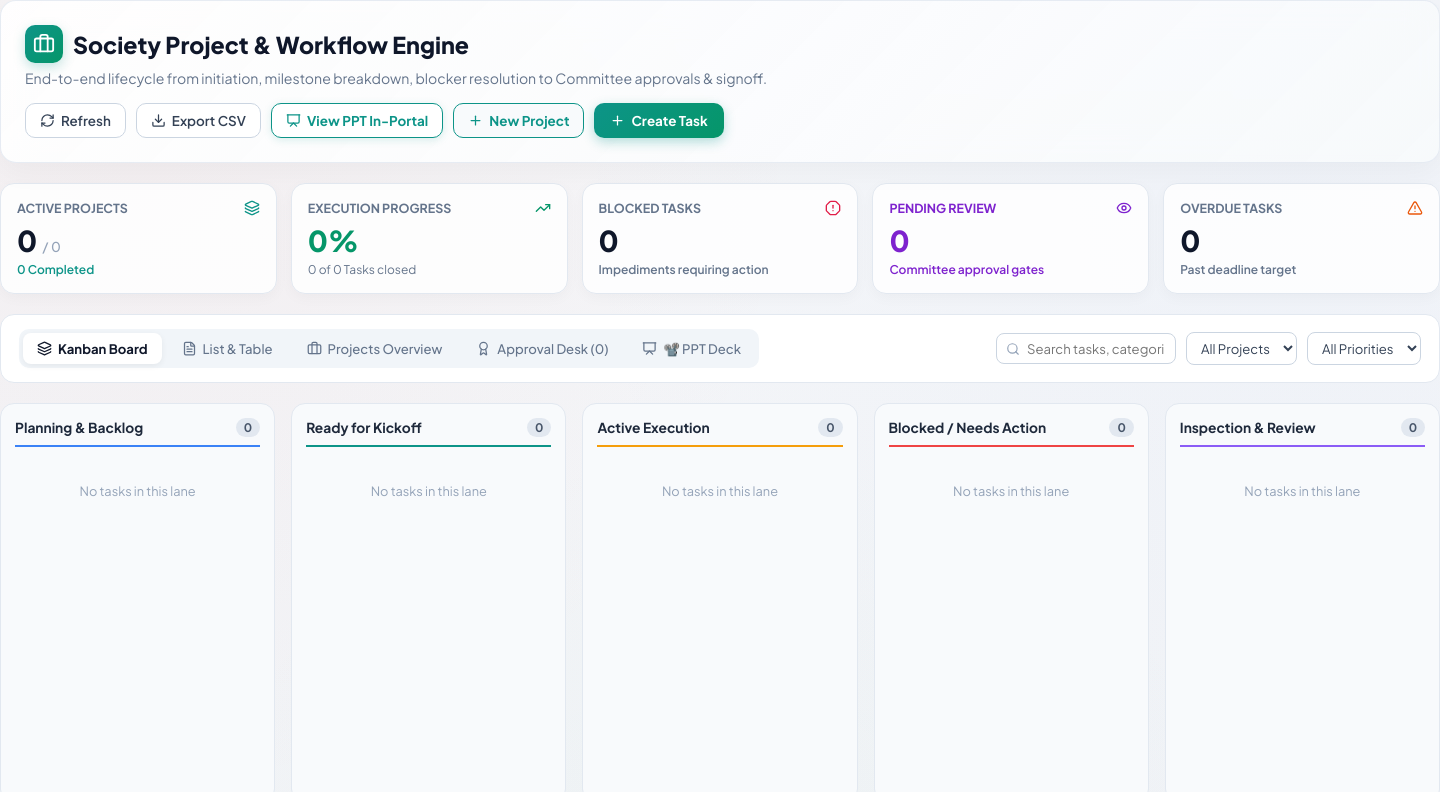
Test case: WorkflowManager Component › switches to List & Table view and renders data table
Click the button "List & Table".
click(227, 348)  # box [168,333,287,364]
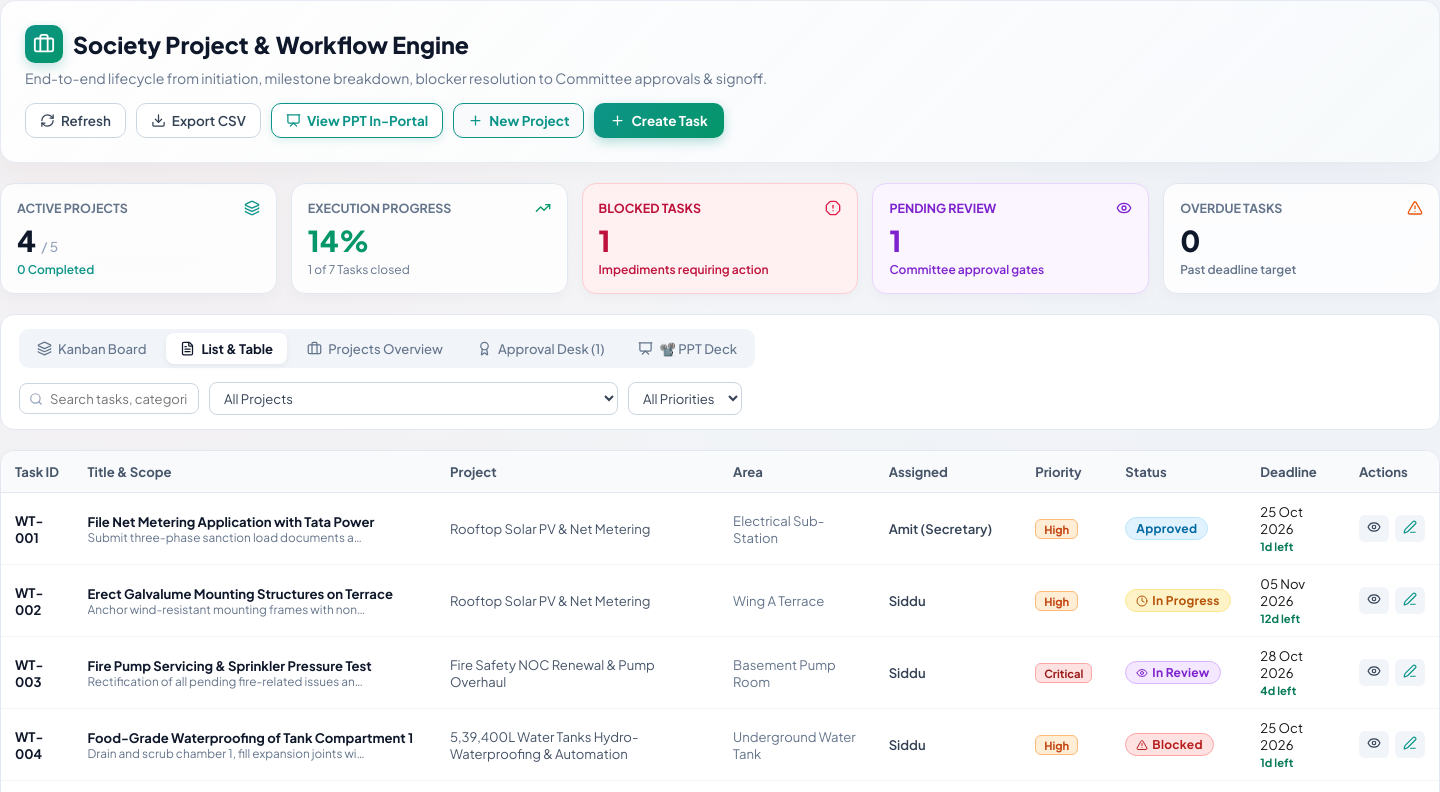
Expected: the column heading "Title & Scope" is shown, [74,451,436,492]
Expected: the column heading "Task ID" is shown, [1,451,74,492]
Expected: the text "WT-001" is shown, [1,492,74,564]
